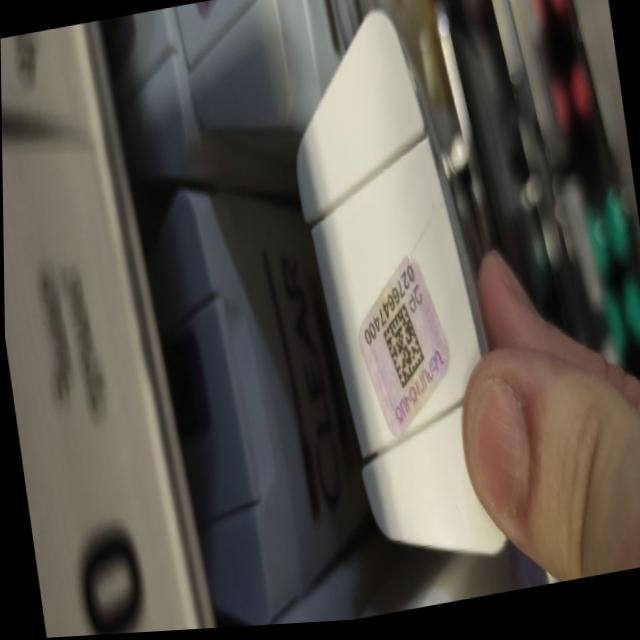datamatrix: (378, 302, 428, 398)
